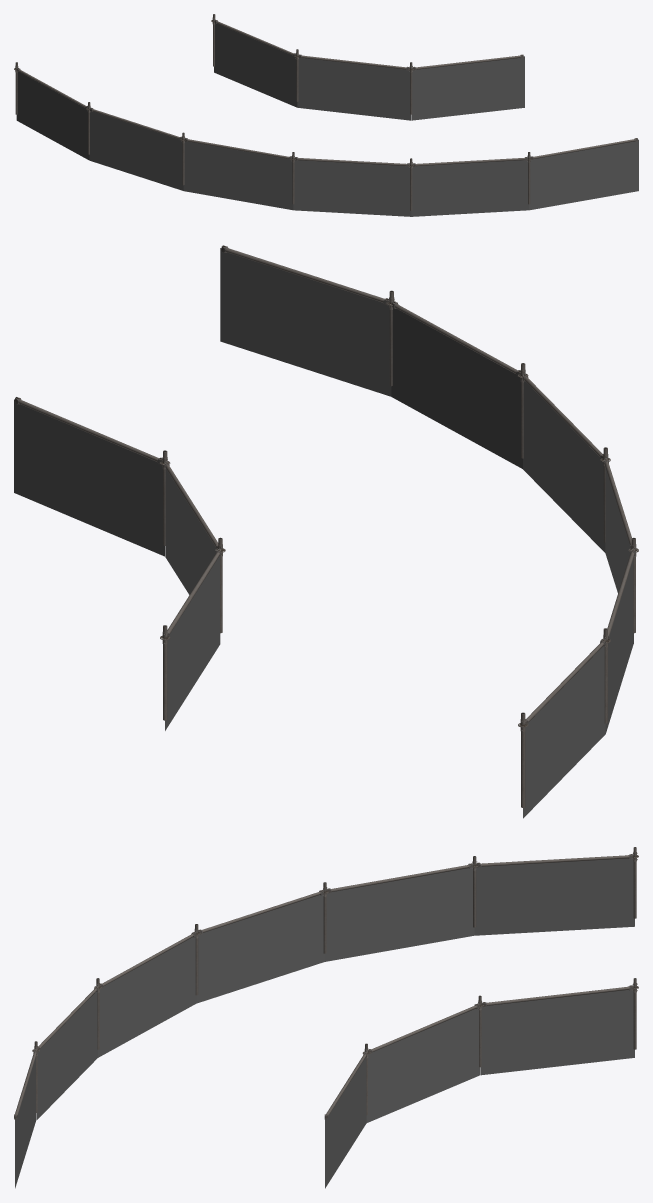
File: scaffold_mid_turnl_96x576.fbx
3 renders of one model, top to bottom at view 1: azimuth 30°, elevation 25°; view 2: azimuth 150°, elevation 25°; view 3: azimuth 270°, elevation 25°, orthographic. The views are drawn at different scales.
Parts seen in each view (by area): view 1: scaffold_mid_turnL_96x576; view 2: scaffold_mid_turnL_96x576; view 3: scaffold_mid_turnL_96x576.
Boxes of the visible parts, x1,y1,x2,y2 form: scaffold_mid_turnL_96x576: (14,14,638,216); scaffold_mid_turnL_96x576: (14,245,638,818); scaffold_mid_turnL_96x576: (14,847,638,1188).
Size of the model in its own units: 773 by 108 by 774.
